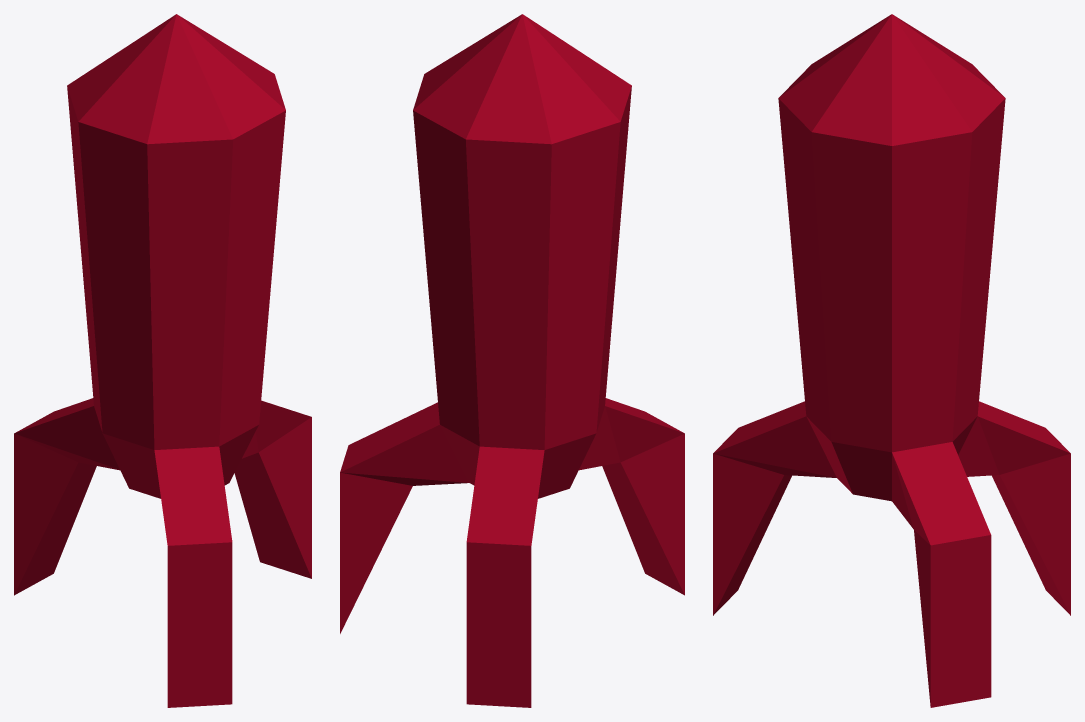
The model's file is ship.obj.
3 renders of one model, left to right at view 1: azimuth 30°, elevation 25°; view 2: azimuth 150°, elevation 25°; view 3: azimuth 270°, elevation 25°, orthographic.
Parts seen in each view (by area): view 1: Cylinder; view 2: Cylinder; view 3: Cylinder.
Boxes of the visible parts, x1,y1,x2,y2 form: Cylinder: (14,14,311,707); Cylinder: (340,14,684,707); Cylinder: (713,14,1070,707).
Size of the model in its own units: 3.42 by 7.96 by 4.18.
